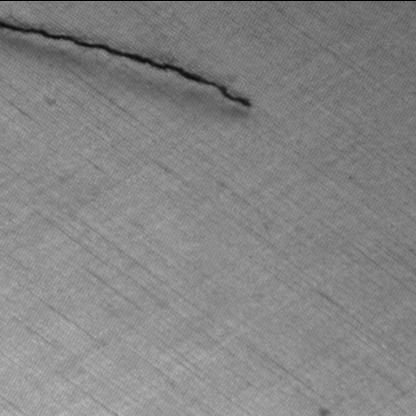objects: (0, 17, 254, 111)
